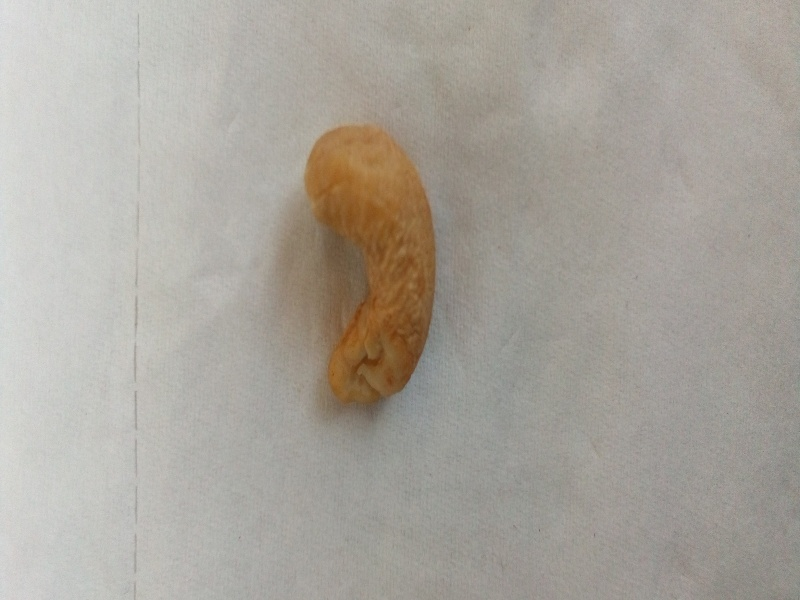cashew: (279, 101, 467, 439)
